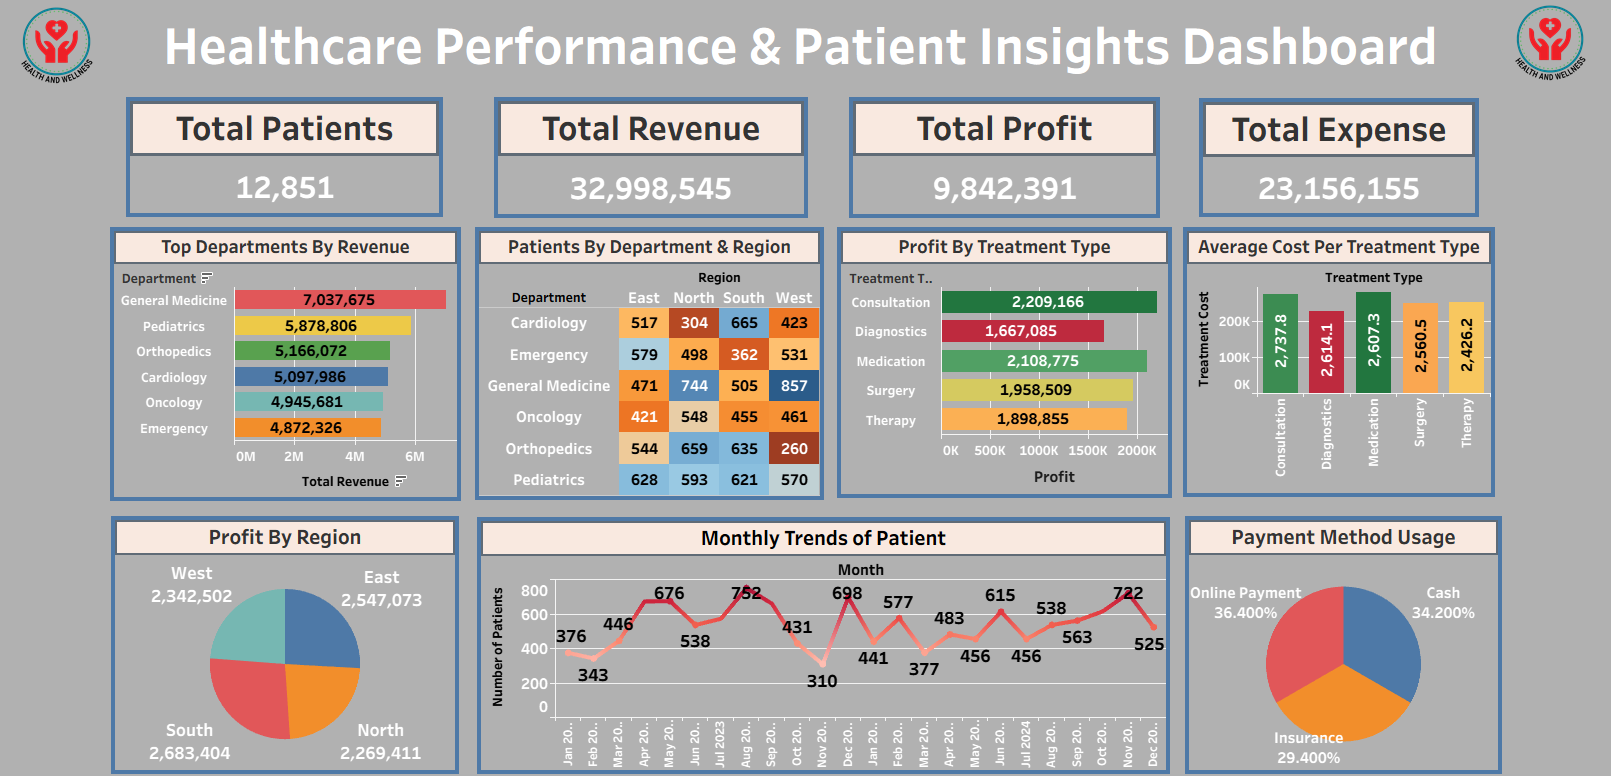

Layout of this report page (visuals, bound fields, positions):
{"tool":"tableau","page":{"name":"Healthcare Data Analysis Dashboard","canvas":[1000,1000],"units":"permille","ordinal":0},"visuals":[{"type":"image","param":"E:/Full Stack Data Analysis Projects/Healthcare/Healthcare Logo.png","box":[903.4,21.2,90.5,98.6]},{"type":"text","box":[94.2,22.5,811.7,98.6]},{"type":"image","param":"E:/Full Stack Data Analysis Projects/Healthcare/Healthcare Logo.png","box":[4.8,23.7,87.5,99.9]},{"type":"worksheet","title":"Total Patients","mark":"Automatic","box":[89,138.6,191.3,149.8]},{"type":"worksheet","title":"Total Revenue","mark":"Automatic","box":[311.7,138.6,189.5,151.1]},{"type":"worksheet","title":"Total Profit","mark":"Automatic","box":[525.9,138.6,187.7,151.1]},{"type":"worksheet","title":"Total Expense","mark":"Text","box":[737.1,139.8,169.1,148.6]},{"type":"worksheet","title":"Top Departments By Revenue","mark":"Automatic","rows":["Department"],"cols":["Total_Revenue"],"box":[79.4,300.9,211.8,342.1]},{"type":"worksheet","title":"Patients By Department & Region","mark":"Square","rows":["Department"],"cols":["Region"],"box":[300.2,300.9,210.6,340.8]},{"type":"worksheet","title":"Profit By Treatment Type","mark":"Bar","rows":["Treatment_Type"],"cols":["Profit"],"box":[518.6,300.9,202.2,338.3]},{"type":"worksheet","title":"Average Cost Per Treatment Type","mark":"Automatic","rows":["Treatment_Cost"],"cols":["Treatment_Type"],"box":[727.4,300.9,188.3,337.1]},{"type":"worksheet","title":"Profit By Region","mark":"Pie","box":[80,661.7,210,322.1]},{"type":"worksheet","title":"Payment Method Usage","mark":"Pie","box":[728.6,661.7,191.3,322.1]},{"type":"worksheet","title":"Monthly Trends of Patient","mark":"Line","rows":["Number_of_Patients"],"cols":["Month"],"box":[301.4,662.9,418.2,320.9]}]}

Visuals, with their boxes on the dashboard's canvas, which has no fixed pixel size, in thousandths of its width and height (x1, y1, x2, y2). These are canvas units, not pixel positions in the 1611x776 screenshot, which may show the page scaled, cropped or inside an application window:
image: pyautogui.locateOnScreen(903, 21, 994, 120)
text: pyautogui.locateOnScreen(94, 22, 906, 121)
image: pyautogui.locateOnScreen(5, 24, 92, 124)
"Total Patients" worksheet: pyautogui.locateOnScreen(89, 139, 280, 288)
"Total Revenue" worksheet: pyautogui.locateOnScreen(312, 139, 501, 290)
"Total Profit" worksheet: pyautogui.locateOnScreen(526, 139, 714, 290)
"Total Expense" worksheet (Text marks): pyautogui.locateOnScreen(737, 140, 906, 288)
"Top Departments By Revenue" worksheet: pyautogui.locateOnScreen(79, 301, 291, 643)
"Patients By Department & Region" worksheet (Square marks): pyautogui.locateOnScreen(300, 301, 511, 642)
"Profit By Treatment Type" worksheet (Bar marks): pyautogui.locateOnScreen(519, 301, 721, 639)
"Average Cost Per Treatment Type" worksheet: pyautogui.locateOnScreen(727, 301, 916, 638)
"Profit By Region" worksheet (Pie marks): pyautogui.locateOnScreen(80, 662, 290, 984)
"Payment Method Usage" worksheet (Pie marks): pyautogui.locateOnScreen(729, 662, 920, 984)
"Monthly Trends of Patient" worksheet (Line marks): pyautogui.locateOnScreen(301, 663, 720, 984)
